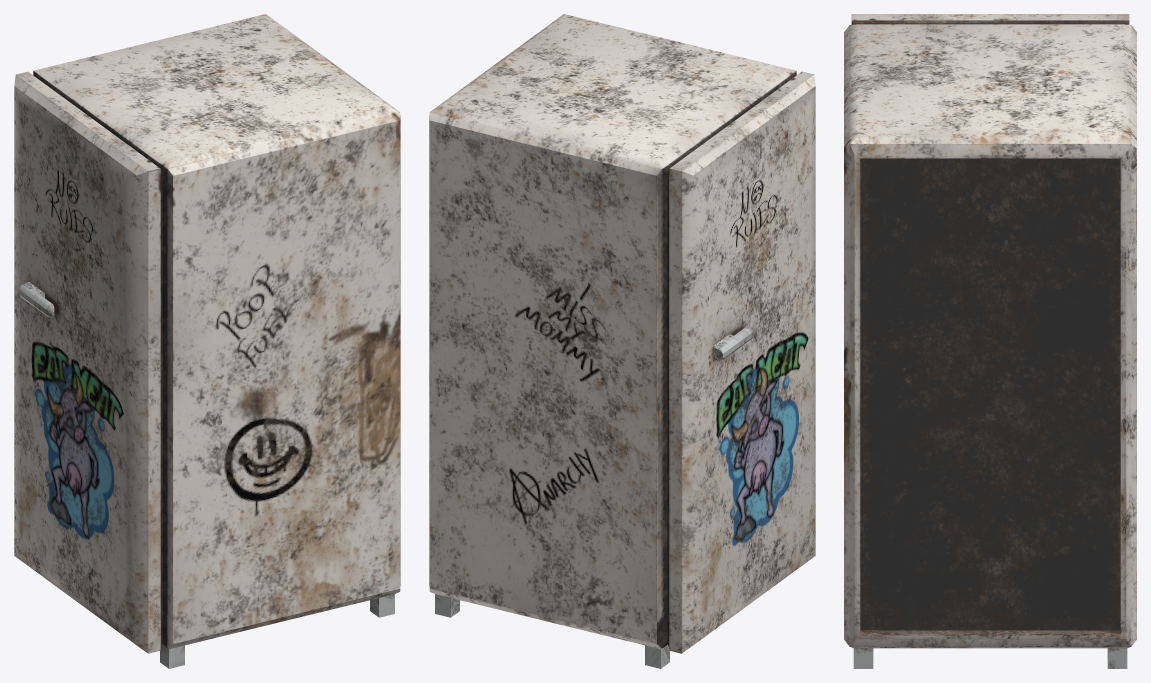
Rendered from Freezer.fbx.
3 renders of one model, left to right at view 1: azimuth 30°, elevation 25°; view 2: azimuth 150°, elevation 25°; view 3: azimuth 270°, elevation 25°, orthographic. The views are drawn at different scales.
Visible parts, largest first — view 1: Cube.001, Cube.002; view 2: Cube.001, Cube.002; view 3: Cube.001, Cube.002.
Part boxes in pixels (x1,y1,x2,y2): Cube.001: [33, 14, 400, 668]; Cube.002: [14, 71, 162, 653]; Cube.001: [429, 14, 796, 668]; Cube.002: [667, 71, 815, 653]; Cube.001: [844, 24, 1136, 668]; Cube.002: [851, 14, 1129, 24].
Bounding box in the file's own units: 73.98 × 131 × 65.33.
